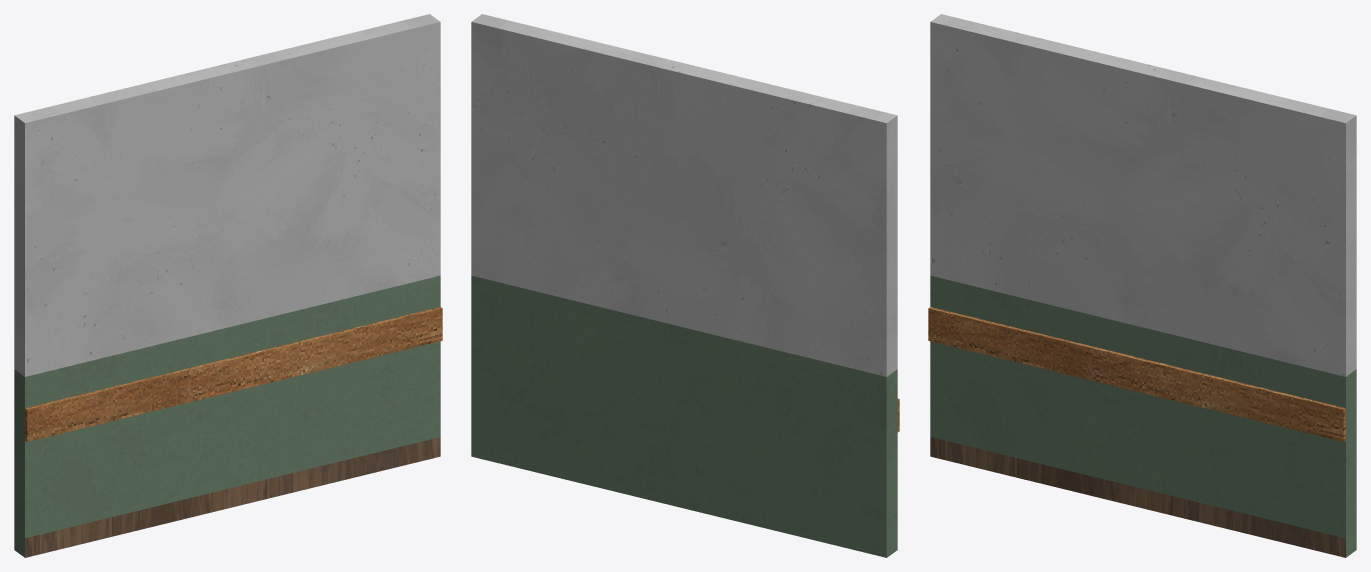
File: HospitalModular_Wall.glb
The picture shows the model from 3 angles, left to right: view 1: azimuth 30°, elevation 25°; view 2: azimuth 150°, elevation 25°; view 3: azimuth 330°, elevation 25°; orthographic projection.
Parts seen in each view (by area): view 1: Wall.002; view 2: Wall.002; view 3: Wall.002.
Boxes of the visible parts, left/top/right/bottom form: Wall.002: left=14, top=14, right=442, bottom=557; Wall.002: left=471, top=14, right=899, bottom=557; Wall.002: left=928, top=14, right=1356, bottom=557.
Size of the model in its own units: 3 by 3 by 0.1602.
4 materials, 4 textured.
